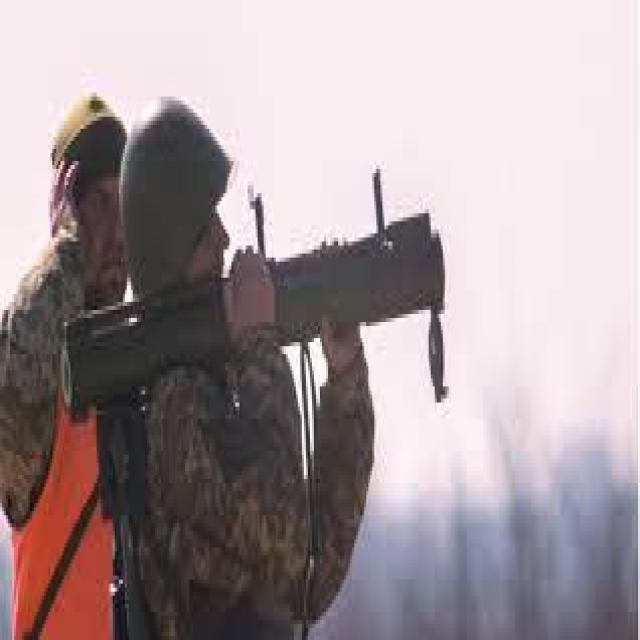bazooka: (62, 152, 452, 443)
